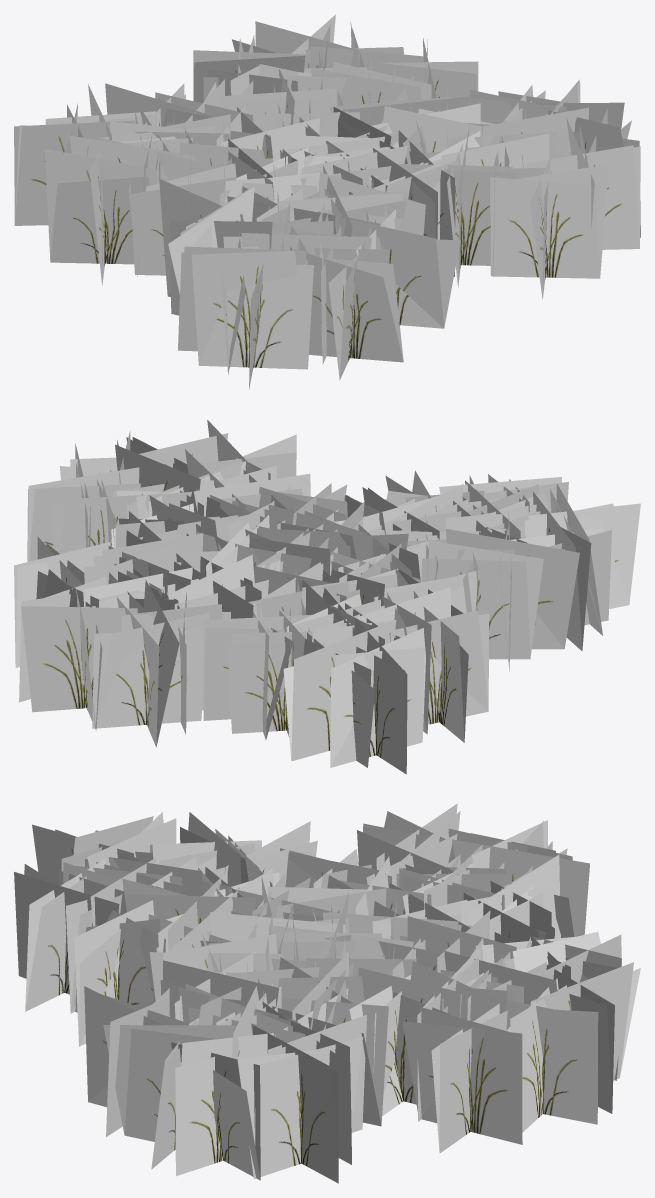
File: grass.fbx
The picture shows the model from 3 angles, top to bottom: view 1: azimuth 30°, elevation 25°; view 2: azimuth 150°, elevation 25°; view 3: azimuth 270°, elevation 25°; orthographic projection. The views are drawn at different scales.
Visible parts, largest first — view 1: Plane; view 2: Plane; view 3: Plane.
Part boxes in pixels (x1=…): Plane: x1=14, y1=14, x2=640, y2=389; Plane: x1=14, y1=420, x2=640, y2=774; Plane: x1=14, y1=803, x2=640, y2=1183.
Bounding box in the file's own units: 2.07 × 0.4781 × 2.08.
1 material, 1 textured.
